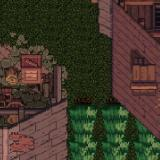Hide: (1, 16, 46, 78)
Obstacle: (68, 0, 160, 160), (0, 32, 68, 160)
